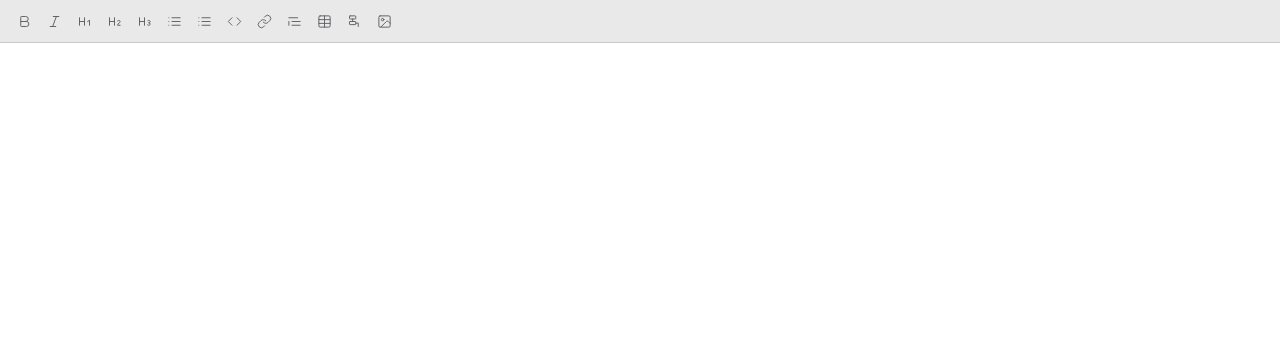
Test: DiagramInsertMenu: item accessibility + icons › each of the 8 items has a non-empty aria-label and Korean label text
The image size is (1280, 339).
Click the button named "다이어그램 삽입" at [354, 21], box [340,7,368,35]
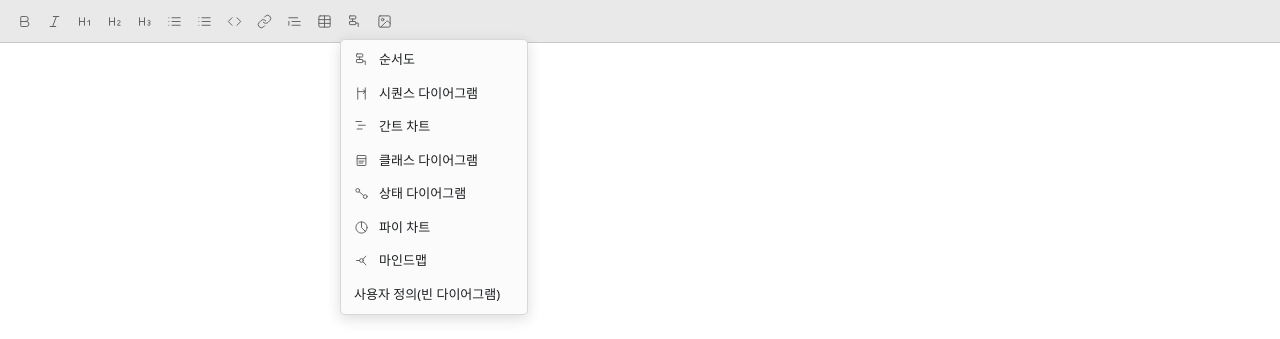
Expected: the menu item "순서도" is shown, [344,43,425,76]
Expected: the menu item "시퀀스 다이어그램" is shown, [344,76,488,110]
Expected: the menu item "간트 차트" is shown, [344,110,440,144]
